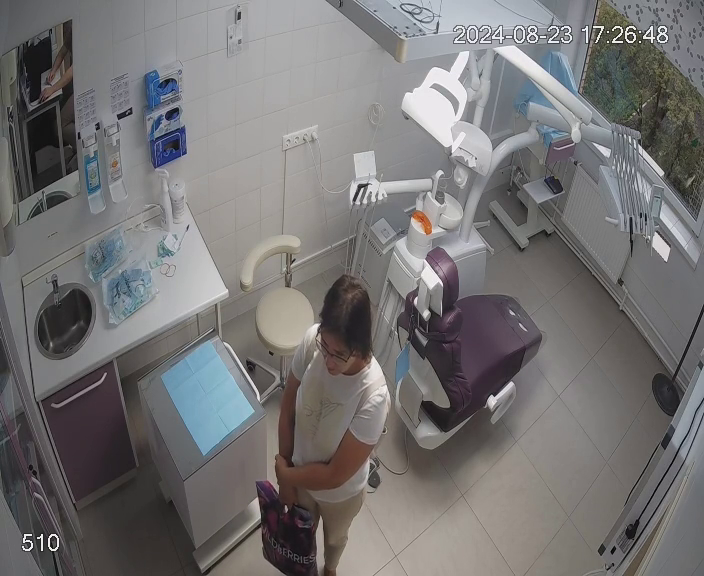Empty: (377, 248, 544, 451)
